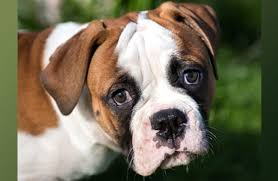Bulldog: (22, 1, 224, 174)
